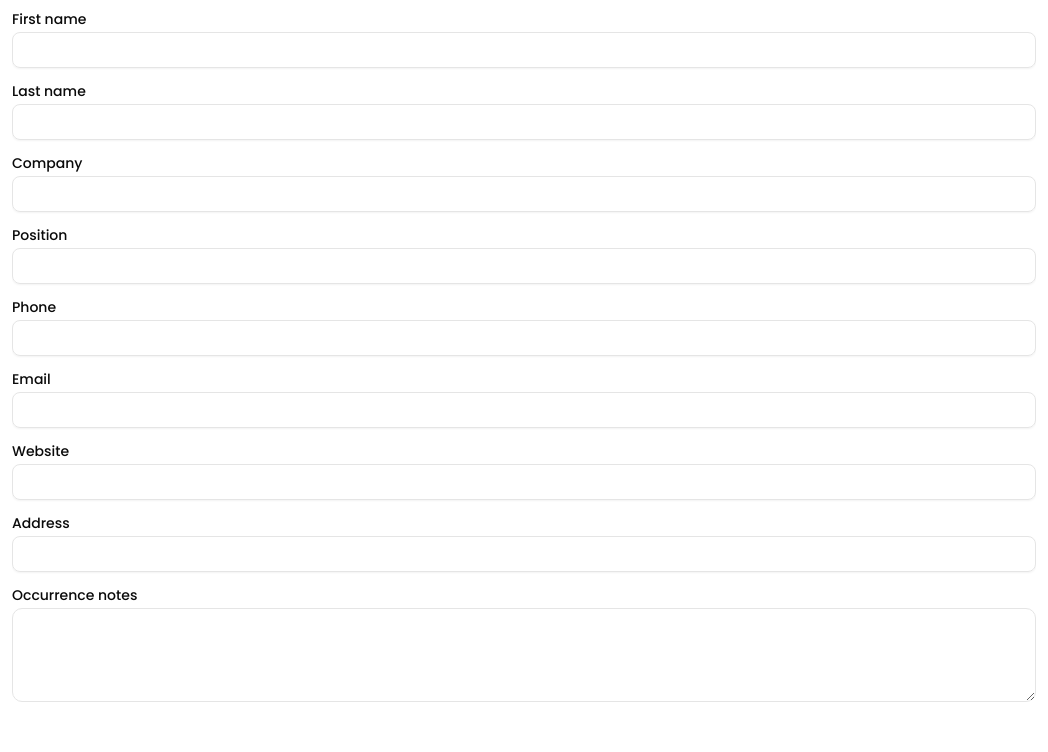
Test: ManualCaptureForm error handling › shows the exact SRS §6.3 session-expired message when the API throws SessionExpiredError
This screenshot has width=1048, height=752.
Type "Ada" into the field labelled "First name" at (524, 50), box [12,32,1036,68]
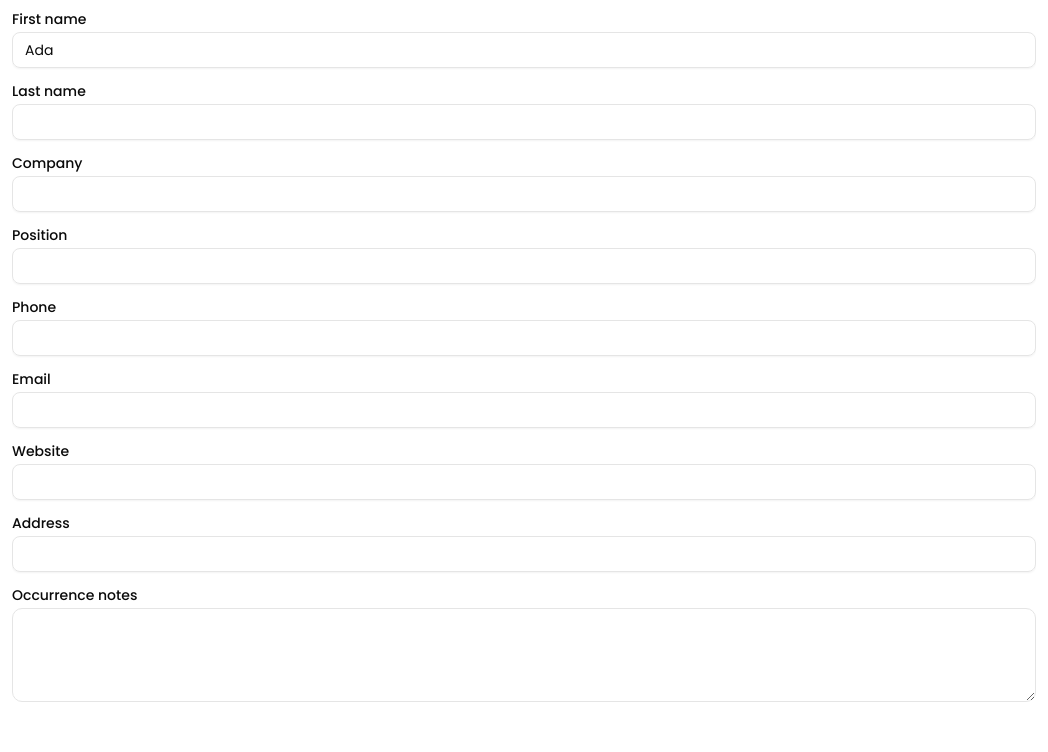
Type "Lovelace" into the field labelled "Last name" at (524, 122), box [12,104,1036,140]
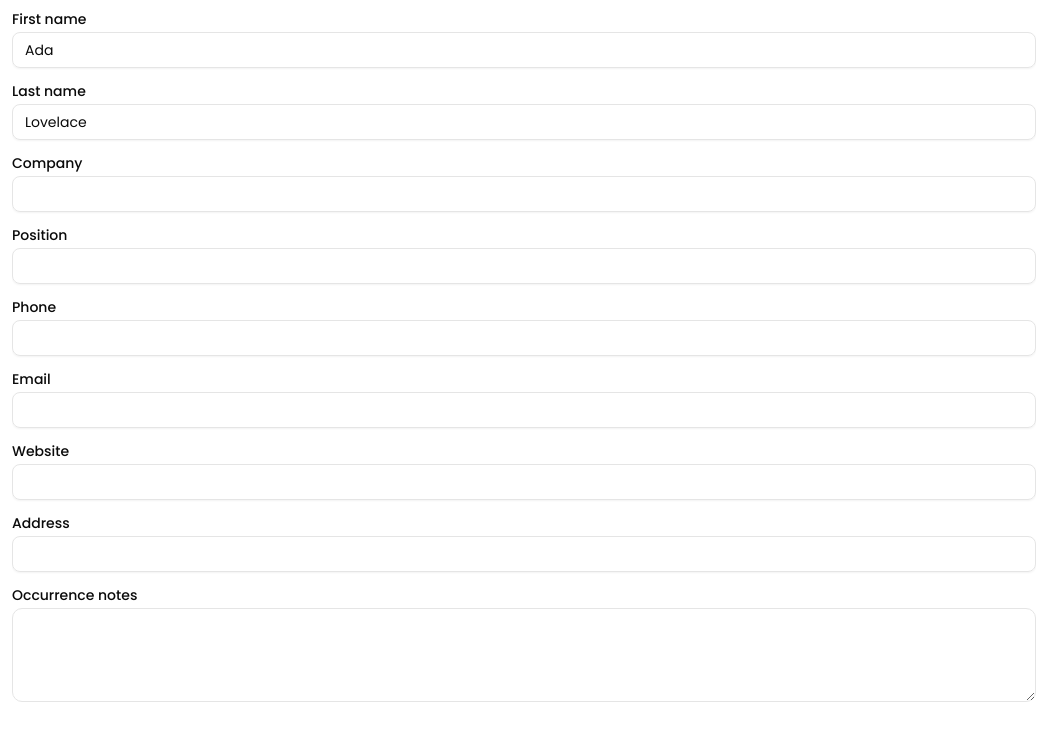
Type "5551234567" into the field labelled "Phone" at (524, 338), box [12,320,1036,356]
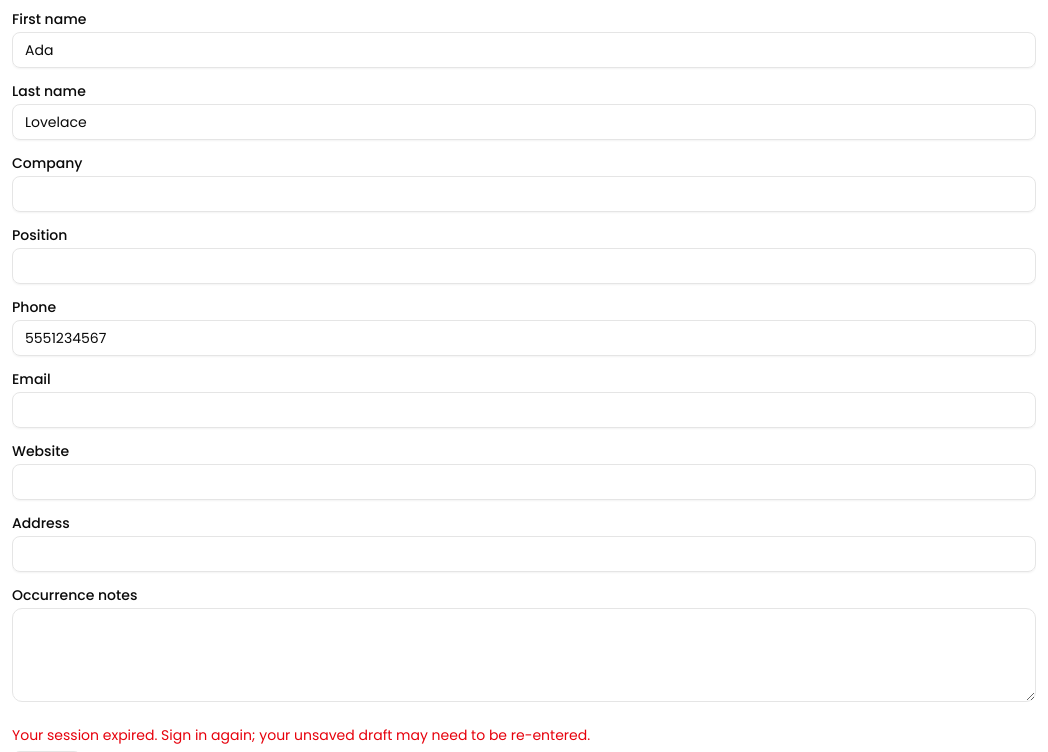
Result: the text "Your session expired. Sign in again; your unsaved draft may need to be re-entered." is shown at [12,725,590,745]
